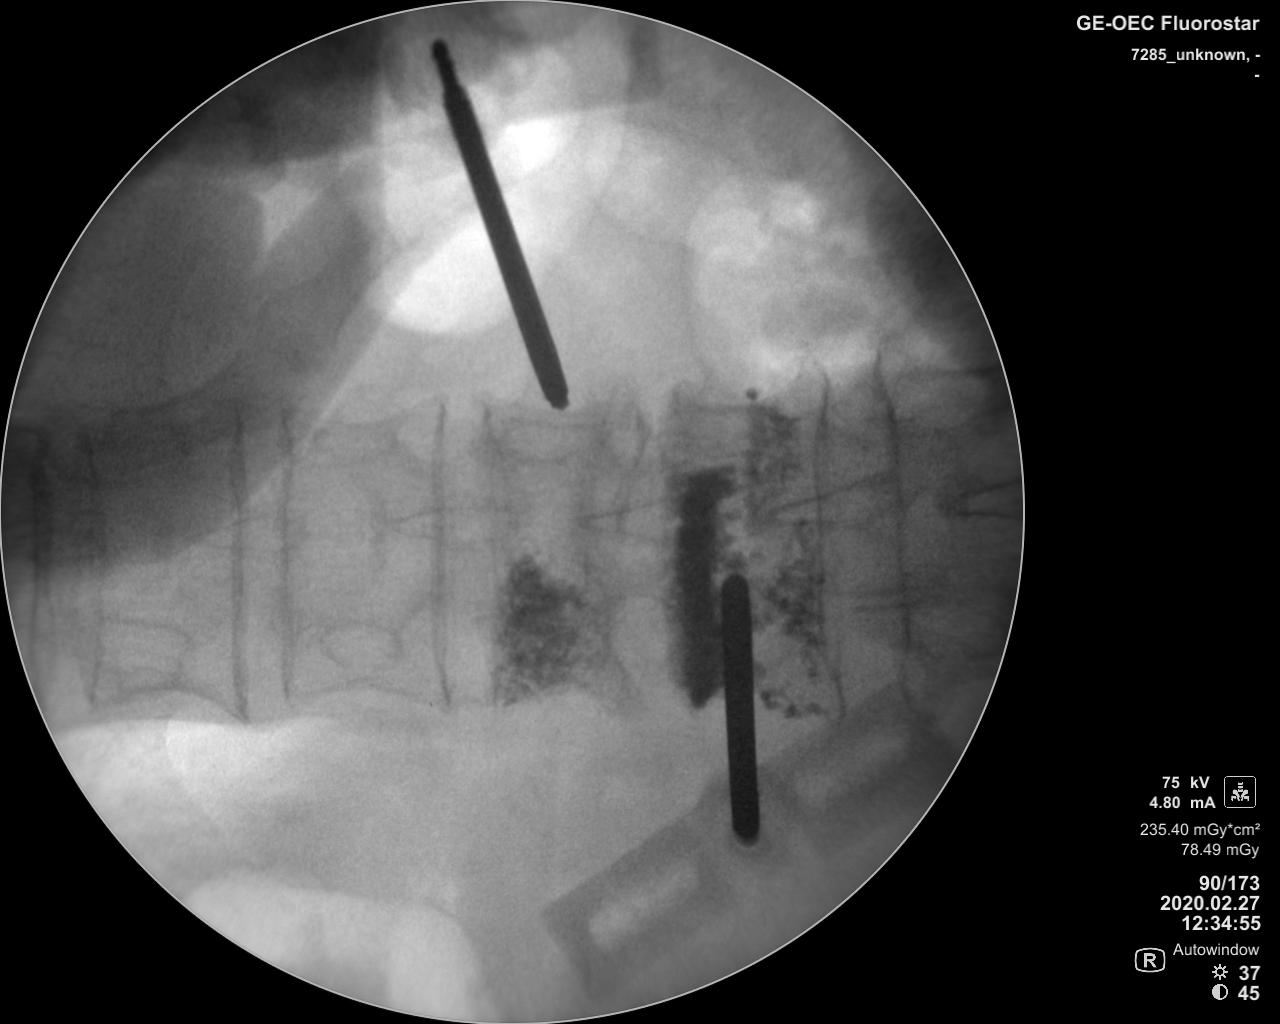eyes: (97, 618, 196, 675), (895, 371, 991, 430), (318, 619, 408, 674), (497, 417, 586, 465), (308, 420, 404, 463)
line: (872, 350, 914, 678), (809, 357, 846, 719), (427, 396, 460, 715), (224, 404, 254, 734), (73, 423, 104, 711), (27, 428, 59, 702), (274, 402, 297, 713)
nose: (759, 478, 902, 528), (387, 505, 528, 546), (188, 510, 305, 556), (575, 501, 685, 544), (947, 479, 1022, 525)
